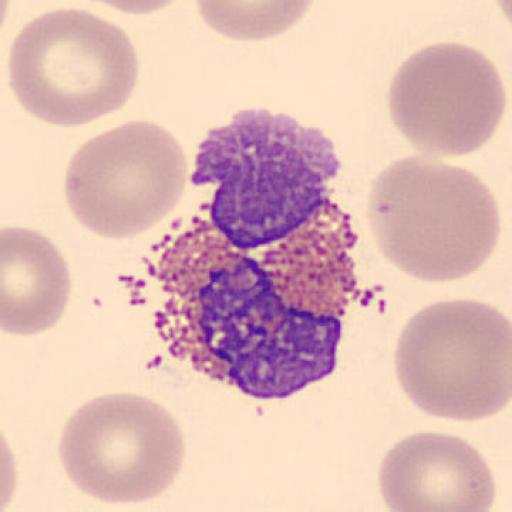RBC: (364, 154, 501, 284), (7, 6, 141, 128), (62, 118, 190, 243), (392, 296, 512, 423), (57, 390, 186, 507), (385, 40, 507, 160), (376, 430, 497, 512), (2, 225, 72, 338), (192, 0, 316, 42), (73, 0, 190, 17), (0, 427, 18, 511), (495, 0, 512, 42), (493, 0, 512, 29)
WBC: (149, 121, 362, 398), (181, 107, 359, 357)
